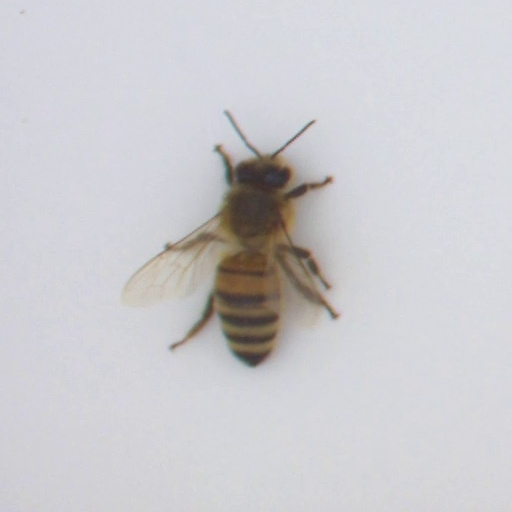Bee: (222, 162, 286, 363)
Thorax: (219, 186, 291, 245)
